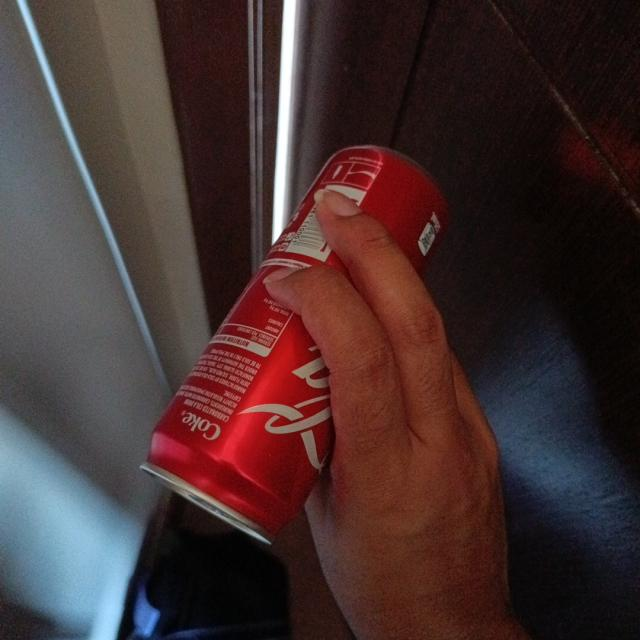coke: (137, 146, 440, 547)
